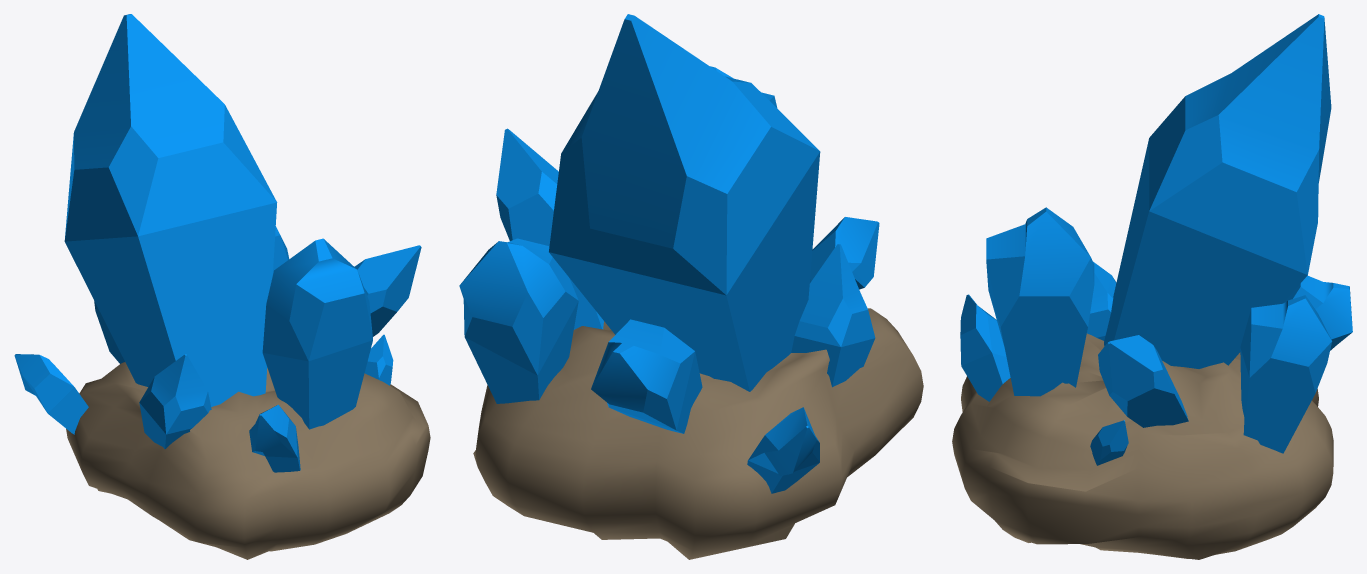
File: crystal.fbx
3 views of the same model, side by side, from view 1: azimuth 30°, elevation 25°; view 2: azimuth 150°, elevation 25°; view 3: azimuth 270°, elevation 25° (orthographic). The views are drawn at different scales.
Parts seen in each view (by area): view 1: pCube4, pSphere1, pCube3, pCube7, pCube2, pCube6, pCube1, pCube8; view 2: pCube4, pSphere1, pCube5, pCube9, pCube7, pCube2, pCube6, pCube1; view 3: pSphere1, pCube4, pCube3, pCube5, pCube2, pCube1, pCube9, pCube7, pCube8.
Part boxes in pixels (x1,y1,x2,y2): pCube4: (64, 14, 277, 406); pSphere1: (66, 362, 430, 559); pCube3: (262, 238, 372, 429); pCube7: (139, 354, 211, 448); pCube2: (354, 245, 421, 336); pCube6: (14, 354, 88, 434); pCube1: (249, 404, 300, 472); pCube8: (364, 334, 393, 385); pCube4: (549, 14, 820, 391); pSphere1: (473, 308, 923, 559); pCube5: (459, 238, 578, 403); pCube9: (591, 319, 702, 433); pCube7: (791, 244, 875, 387); pCube2: (496, 128, 603, 329); pCube6: (747, 407, 819, 493); pCube1: (810, 217, 879, 289); pSphere1: (952, 333, 1333, 559); pCube4: (1104, 14, 1331, 368); pCube3: (986, 207, 1094, 396); pCube5: (1240, 295, 1332, 453); pCube2: (1098, 335, 1188, 427); pCube1: (960, 294, 1010, 401); pCube9: (1283, 275, 1352, 350); pCube7: (1087, 261, 1116, 340); pCube8: (1090, 420, 1128, 465).
Bounding box in the file's own units: 4.08 × 5.52 × 4.07.
